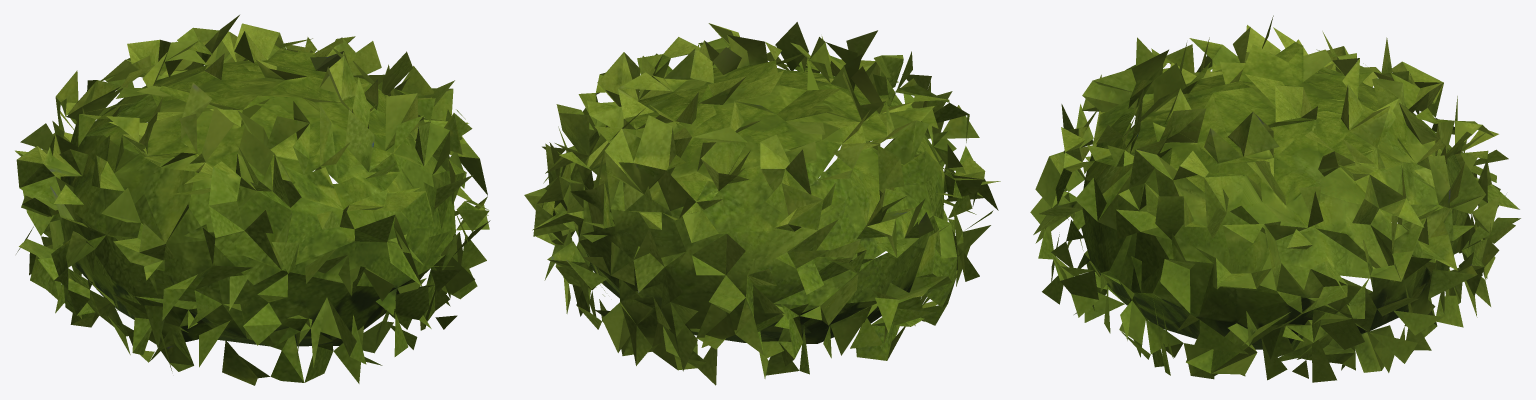
Rendered from hedge_bush.glb.
The picture shows the model from 3 angles, left to right: view 1: azimuth 30°, elevation 25°; view 2: azimuth 150°, elevation 25°; view 3: azimuth 270°, elevation 25°; orthographic projection. The views are drawn at different scales.
Visible parts, largest first — view 1: geometry_0; view 2: geometry_0; view 3: geometry_0.
Boxes of the visible parts, box(x1,y1,x2,y2) form: geometry_0: box(15, 15, 490, 385); geometry_0: box(524, 22, 1000, 385); geometry_0: box(1030, 15, 1520, 382).
Size of the model in its own units: 2.06 by 1.2 by 2.1.
Materials: 1 (1 with a texture image).
